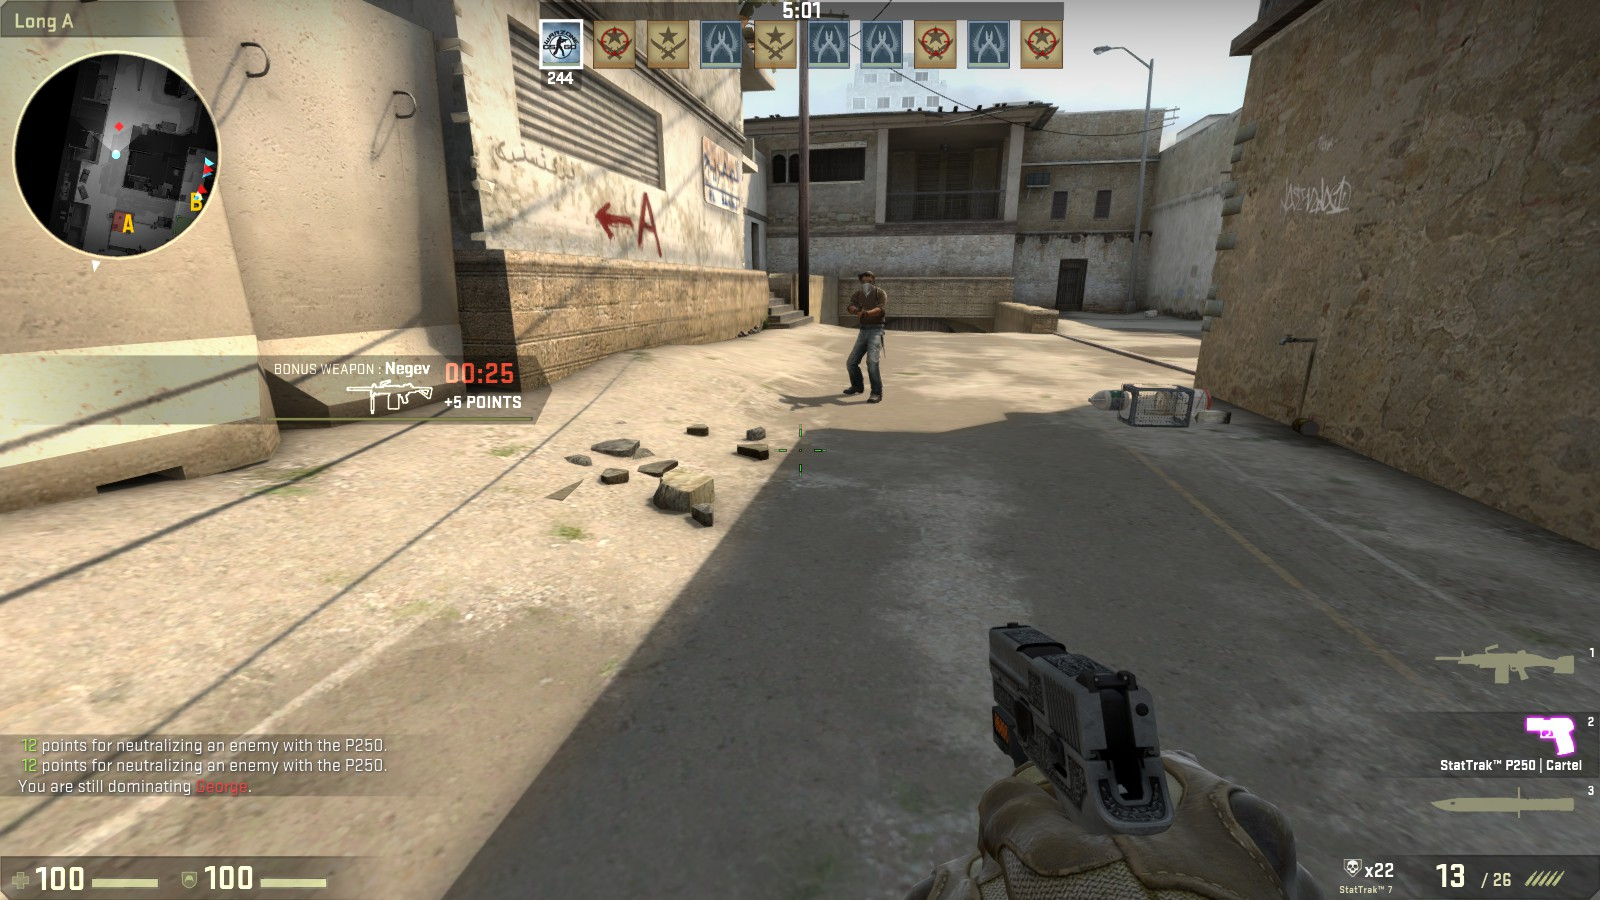t: (847, 269, 889, 404)
th: (857, 270, 880, 295)
